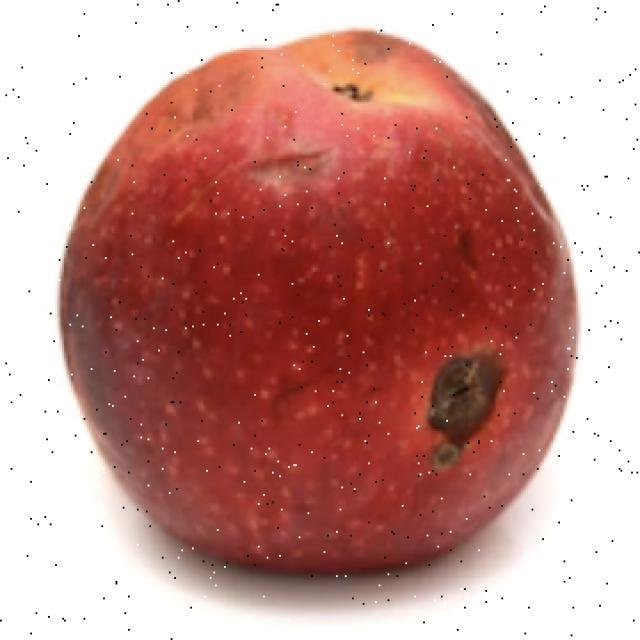Rotten: (68, 42, 585, 563)
